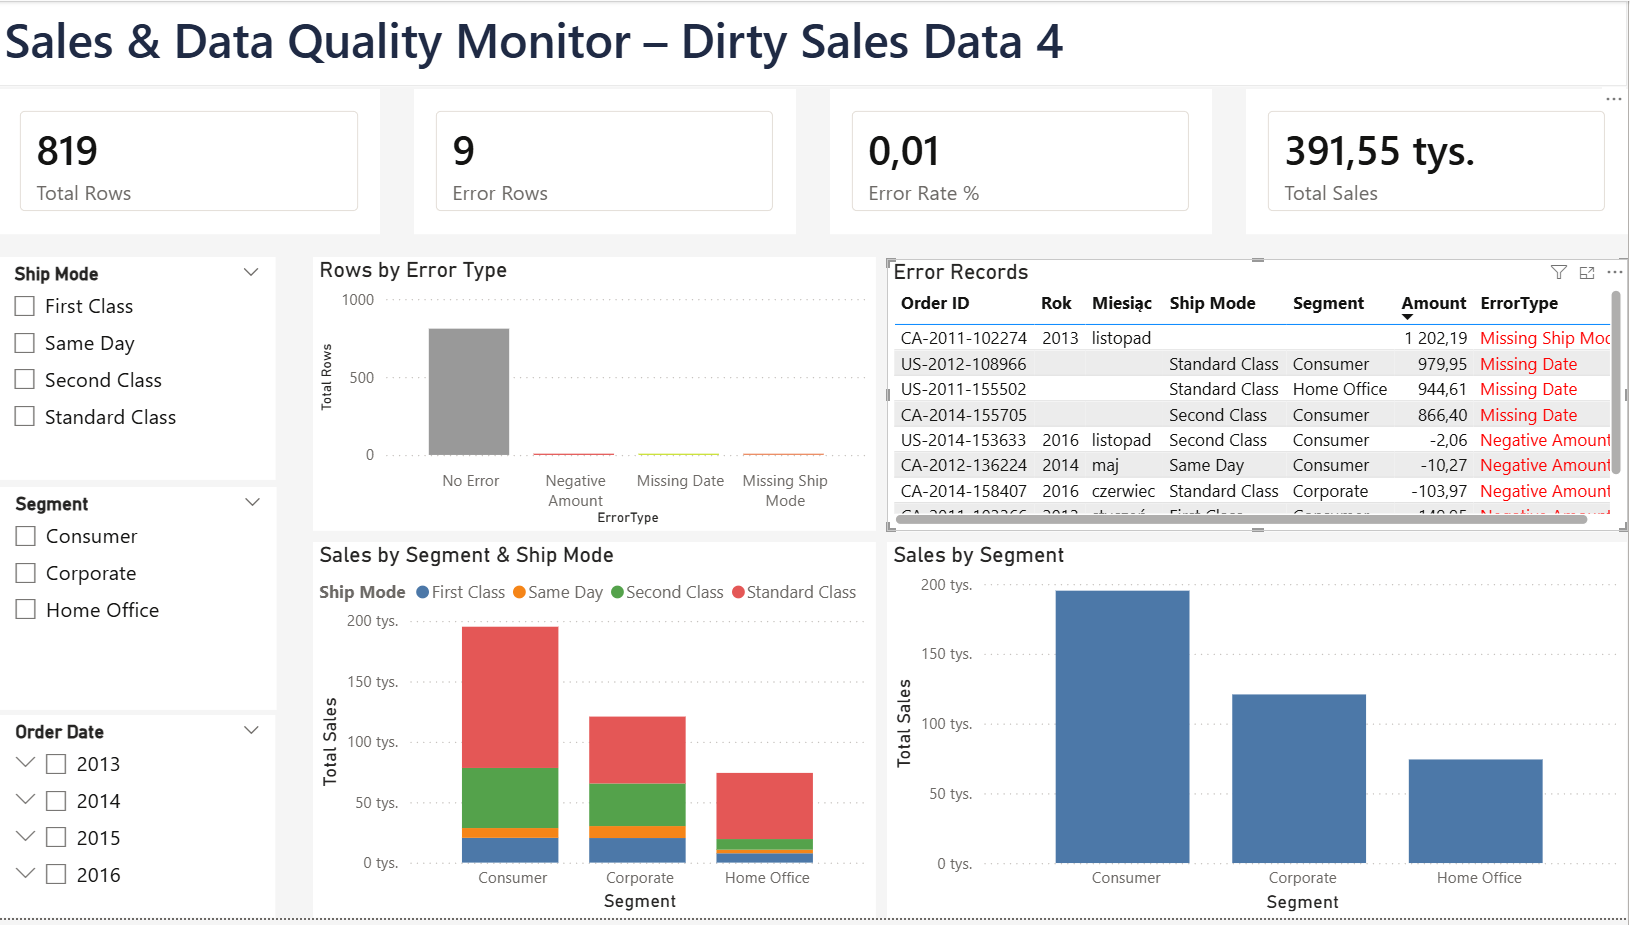

The dashboard page shown, as its layout file describes it:
{"tool":"powerbi","page":{"name":"Strona 1","canvas":[1280,720],"ordinal":0},"visuals":[{"type":"cardVisual","fields":{"Data":["Dirty 4.Total Rows"]},"box":[0,69.1,300,113.9],"z":0},{"type":"cardVisual","fields":{"Data":["Dirty 4.Error Rows"]},"box":[326.7,69.1,300,113.9],"z":1000},{"type":"cardVisual","fields":{"Data":["Dirty 4.Error Rate %"]},"box":[653.4,69.1,300,113.9],"z":2000},{"type":"cardVisual","fields":{"Data":["Dirty 4.Total Sales"]},"box":[980,69.1,300,113.9],"z":3000},{"type":"columnChart","title":"Rows by Error Type","fields":{"Category":["Dirty 4.ErrorType"],"Y":["Dirty 4.Total Rows"]},"box":[247.1,201,441.8,215.4],"z":4000},{"type":"columnChart","title":"Sales by Segment","fields":{"Category":["Dirty 4.Segment"],"Y":["Dirty 4.Total Sales"]},"box":[697.9,424.6,581.2,295.1],"z":5000},{"type":"columnChart","title":"Sales by Segment & Ship Mode","fields":{"Category":["Dirty 4.Segment"],"Y":["Dirty 4.Total Sales"],"Series":["Dirty 4.Ship Mode"]},"box":[247.1,424.6,441.8,295.1],"z":6000},{"type":"slicer","fields":{"Values":["Dirty 4.Ship Mode"]},"box":[0,201.3,217.8,175],"z":7000},{"type":"slicer","fields":{"Values":["Dirty 4.Segment"]},"box":[0.9,381.4,218.2,174.7],"z":8000},{"type":"textbox","box":[0,0,1279.5,67],"z":9000},{"type":"slicer","fields":{"Values":["Dirty 4.Order Date.Odmiana.Hierarchia dat.Rok","Dirty 4.Order Date.Odmiana.Hierarchia dat.Miesiąc"]},"box":[0.9,561,217.3,159],"z":10000},{"type":"tableEx","title":"Error Records","fields":{"Values":["Dirty 4.Order ID","Dirty 4.Order Date.Odmiana.Hierarchia dat.Rok","Dirty 4.Order Date.Odmiana.Hierarchia dat.Miesiąc","Dirty 4.Ship Mode","Dirty 4.Segment","Sum(Dirty 4.Value)","Dirty 4.ErrorType"]},"box":[697.9,202.8,582.1,213.6],"z":11000}]}

Visuals, with their boxes in screenshot pixels (x1, y1, x2, y2), scaled from the page's 1280x720 canvas onto the 1630x925 screenshot:
cardVisual - Dirty 4.Total Rows: locate(0, 89, 382, 235)
cardVisual - Dirty 4.Error Rows: locate(416, 89, 798, 235)
cardVisual - Dirty 4.Error Rate %: locate(832, 89, 1214, 235)
cardVisual - Dirty 4.Total Sales: locate(1248, 89, 1629, 235)
"Rows by Error Type" columnChart: locate(315, 258, 877, 535)
"Sales by Segment" columnChart: locate(889, 545, 1629, 924)
"Sales by Segment & Ship Mode" columnChart: locate(315, 545, 877, 924)
slicer - Dirty 4.Ship Mode: locate(0, 259, 277, 483)
slicer - Dirty 4.Segment: locate(1, 490, 279, 714)
textbox: locate(0, 0, 1629, 86)
slicer - Dirty 4.Order Date.Odmiana.Hierarchia dat.Rok x Dirty 4.Order Date.Odmiana.Hierarchia dat.Miesiąc: locate(1, 721, 278, 924)
"Error Records" tableEx: locate(889, 261, 1629, 535)
